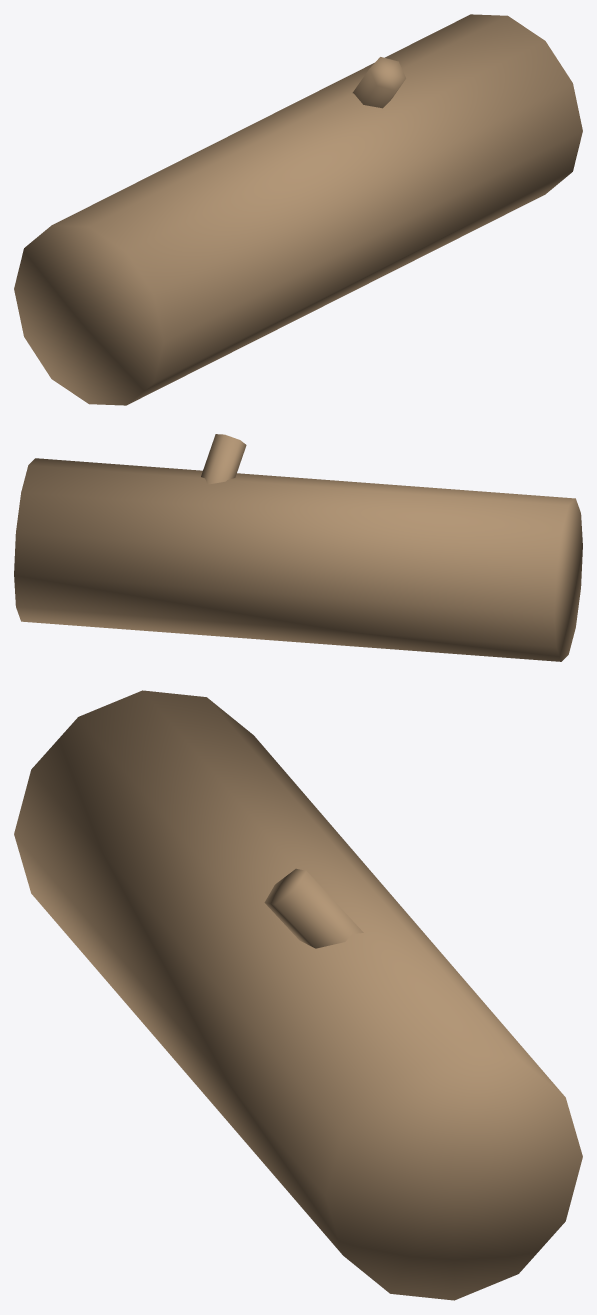
The model's file is env_forest_log.glb.
The picture shows the model from 3 angles, top to bottom: view 1: azimuth 30°, elevation 25°; view 2: azimuth 150°, elevation 25°; view 3: azimuth 270°, elevation 25°; orthographic projection. The views are drawn at different scales.
Parts seen in each view (by area): view 1: cone; view 2: cone; view 3: cone.
Part boxes in pixels (left/top/right/bottom): cone: left=14, top=14, right=582, bottom=405; cone: left=14, top=434, right=582, bottom=661; cone: left=14, top=690, right=582, bottom=1300.
Bounding box in the file's own units: 2.08 × 0.7418 × 1.25.
